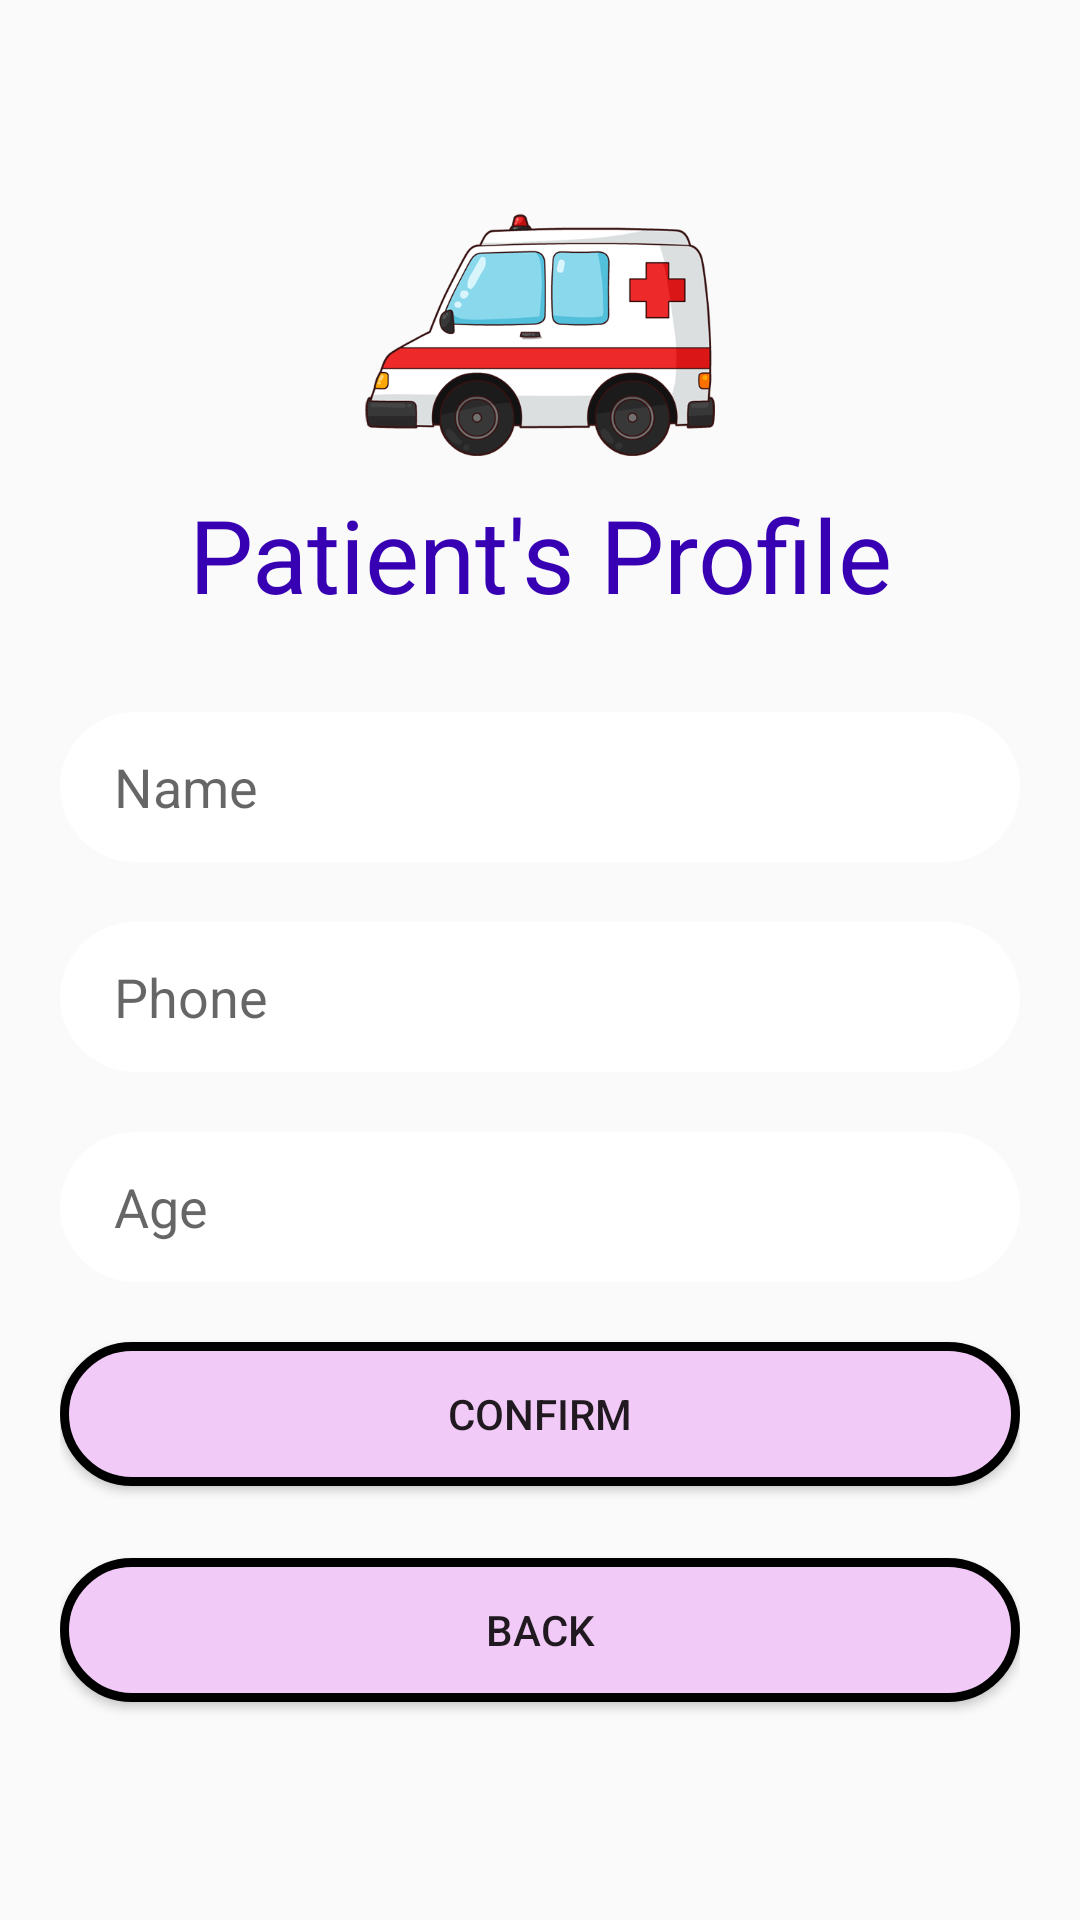

Icons on this 1080 x 1920 Android screen, each with its box as (x1, y1, x2, y2):
ambu: (365, 214, 715, 456)
